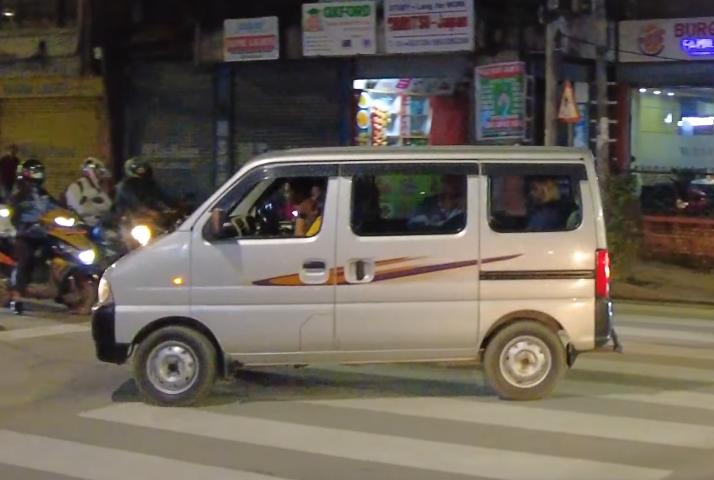scooter: (0, 201, 102, 317)
van: (81, 141, 631, 411)
